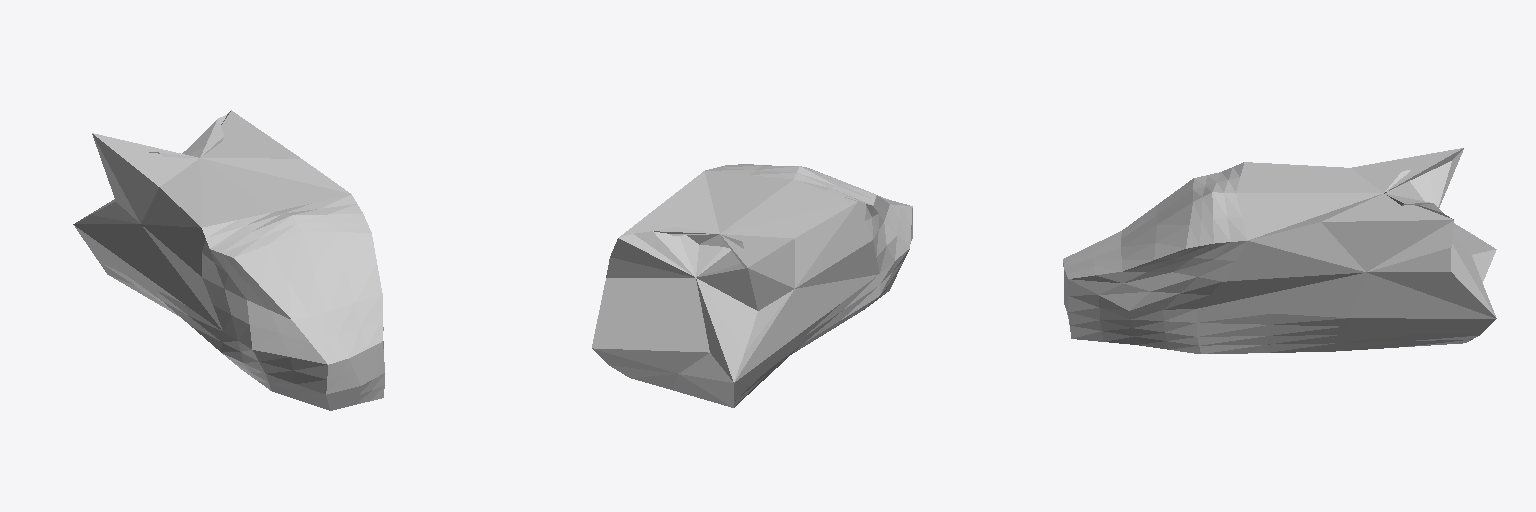
The model's file is Cabin.mtl.obj.
The picture shows the model from 3 angles: view 1: azimuth 30°, elevation 25°; view 2: azimuth 150°, elevation 25°; view 3: azimuth 270°, elevation 25°; orthographic projection.
Visible parts, largest first — view 1: Plane; view 2: Plane; view 3: Plane.
Boxes of the visible parts, x1=… form: Plane: x1=73, y1=110, x2=384, y2=410; Plane: x1=592, y1=164, x2=912, y2=407; Plane: x1=1063, y1=148, x2=1496, y2=353.
Size of the model in its own units: 6.35 by 5.58 by 14.98.